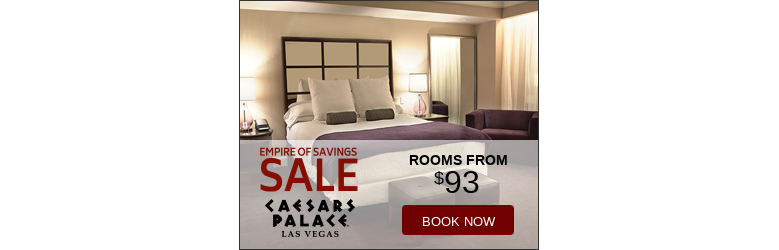fake_button: (394, 198, 519, 241)
